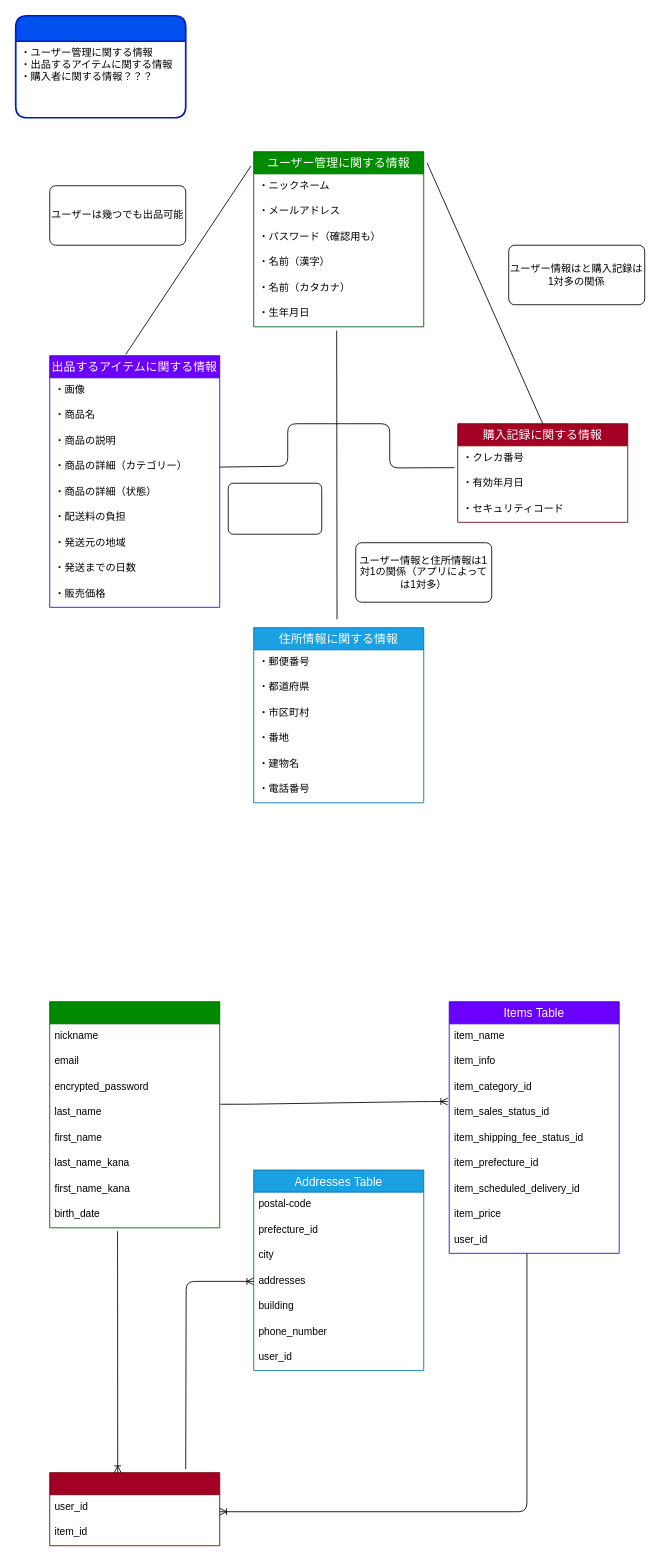
This 660x1562 diagram has some shape labels left out. The shapes that lost their labels are listed below. From the top down, each one's box as (x1, y1, x2, y2) in pixels, then its label:
(14, 14, 186, 118): Entity
(227, 482, 322, 534): アイテム情報と購入記録は 1対1の関係
(49, 1001, 220, 1228): Users Table
(49, 1472, 220, 1546): Orders Table
